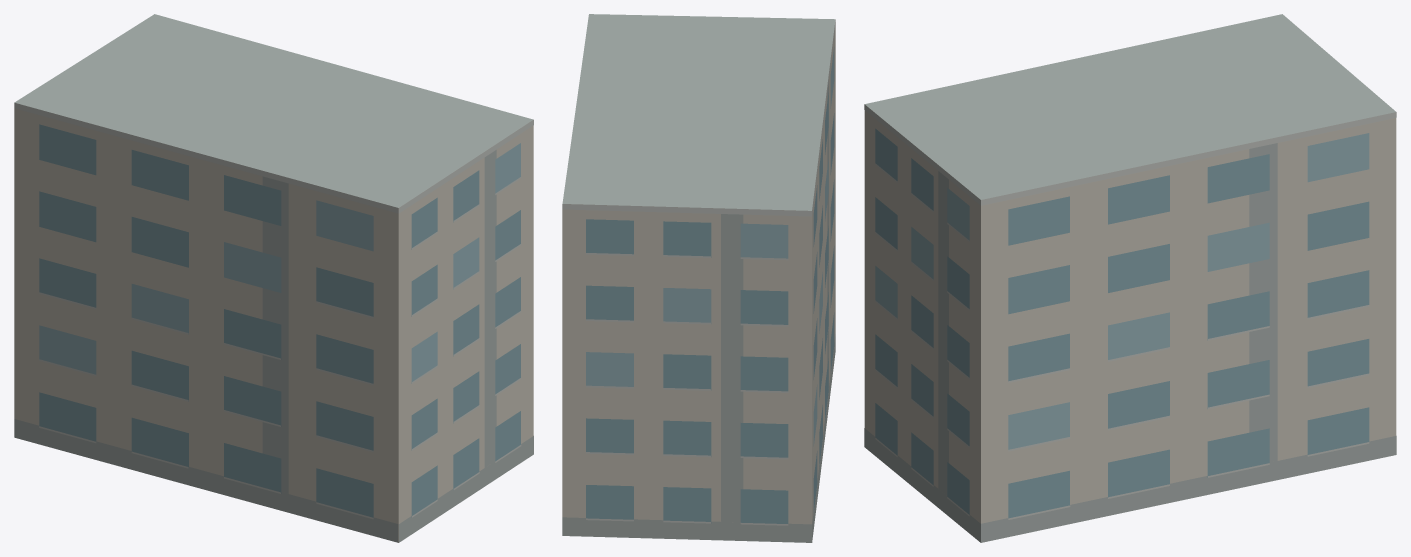
Rendered from survey-upis-32828682.glb.
3 views of the same model, side by side, from view 1: azimuth 30°, elevation 25°; view 2: azimuth 150°, elevation 25°; view 3: azimuth 270°, elevation 25° (orthographic). The views are drawn at different scales.
Parts seen in each view (by area): view 1: survey-upis-32828682.tmp; view 2: survey-upis-32828682.tmp; view 3: survey-upis-32828682.tmp.
Boxes of the visible parts, x1,y1,x2,y2 form: survey-upis-32828682.tmp: (14, 14, 533, 542); survey-upis-32828682.tmp: (562, 14, 835, 542); survey-upis-32828682.tmp: (864, 14, 1396, 542).
Bounding box in the file's own units: 16.76 × 14.4 × 20.26.
